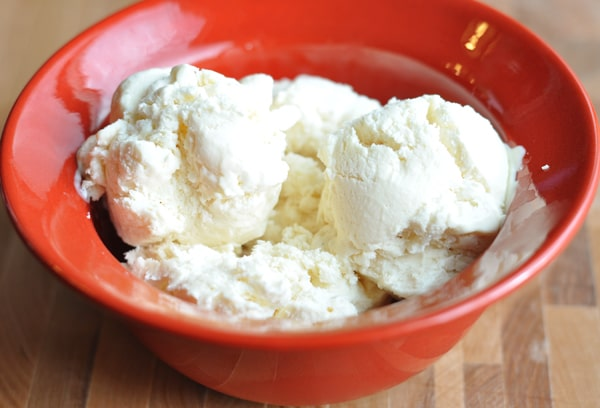ice-cream: (100, 73, 519, 313), (330, 100, 518, 293), (91, 67, 291, 240)
